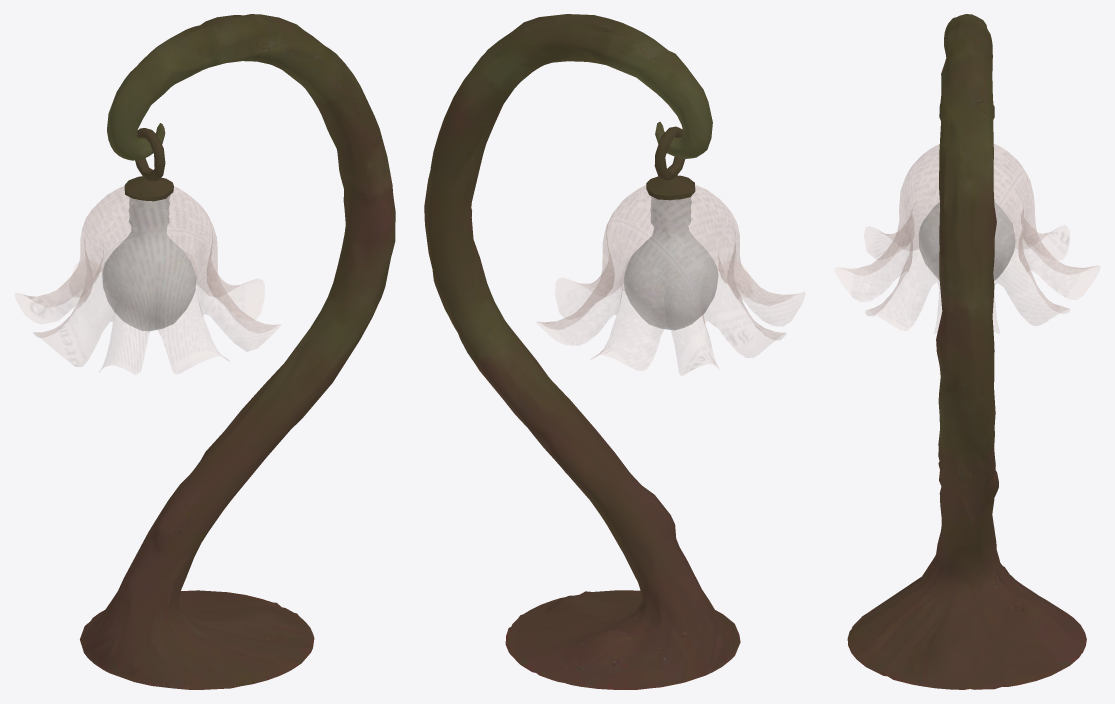
File: nouveau-lamp.glb
3 renders of one model, left to right at view 1: azimuth 30°, elevation 25°; view 2: azimuth 150°, elevation 25°; view 3: azimuth 270°, elevation 25°, orthographic.
Size of the model in its own units: 1.13 by 1.86 by 0.7216.
3 materials, 3 textured.
